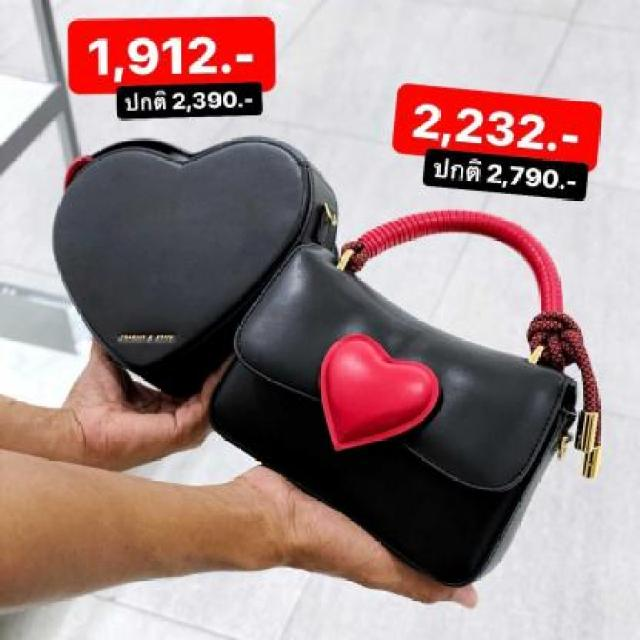Bag: (200, 215, 612, 616), (24, 104, 336, 405)
